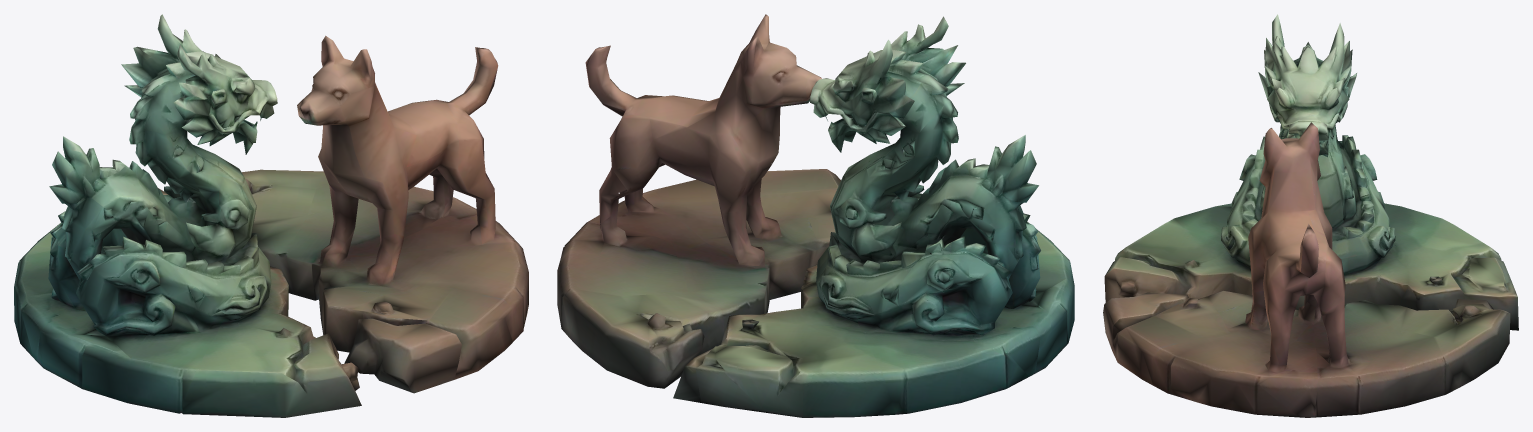
File: chong_chen_xu.glb
3 views of the same model, side by side, from view 1: azimuth 30°, elevation 25°; view 2: azimuth 150°, elevation 25°; view 3: azimuth 270°, elevation 25° (orthographic). The views are drawn at different scales.
Visible parts, largest first — view 1: tripo_node_f07ae975-c046-4e69-baa6-6ea3b0323b16; view 2: tripo_node_f07ae975-c046-4e69-baa6-6ea3b0323b16; view 3: tripo_node_f07ae975-c046-4e69-baa6-6ea3b0323b16.
Boxes of the visible parts, <box> form: tripo_node_f07ae975-c046-4e69-baa6-6ea3b0323b16: <box>14,14,528,417</box>; tripo_node_f07ae975-c046-4e69-baa6-6ea3b0323b16: <box>557,14,1074,417</box>; tripo_node_f07ae975-c046-4e69-baa6-6ea3b0323b16: <box>1103,14,1518,417</box>.
Size of the model in its own units: 0.9997 by 0.6454 by 0.9229.
Materials: 1 (1 with a texture image).
